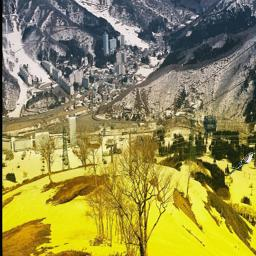Cuckoo: (228, 152, 256, 175)
